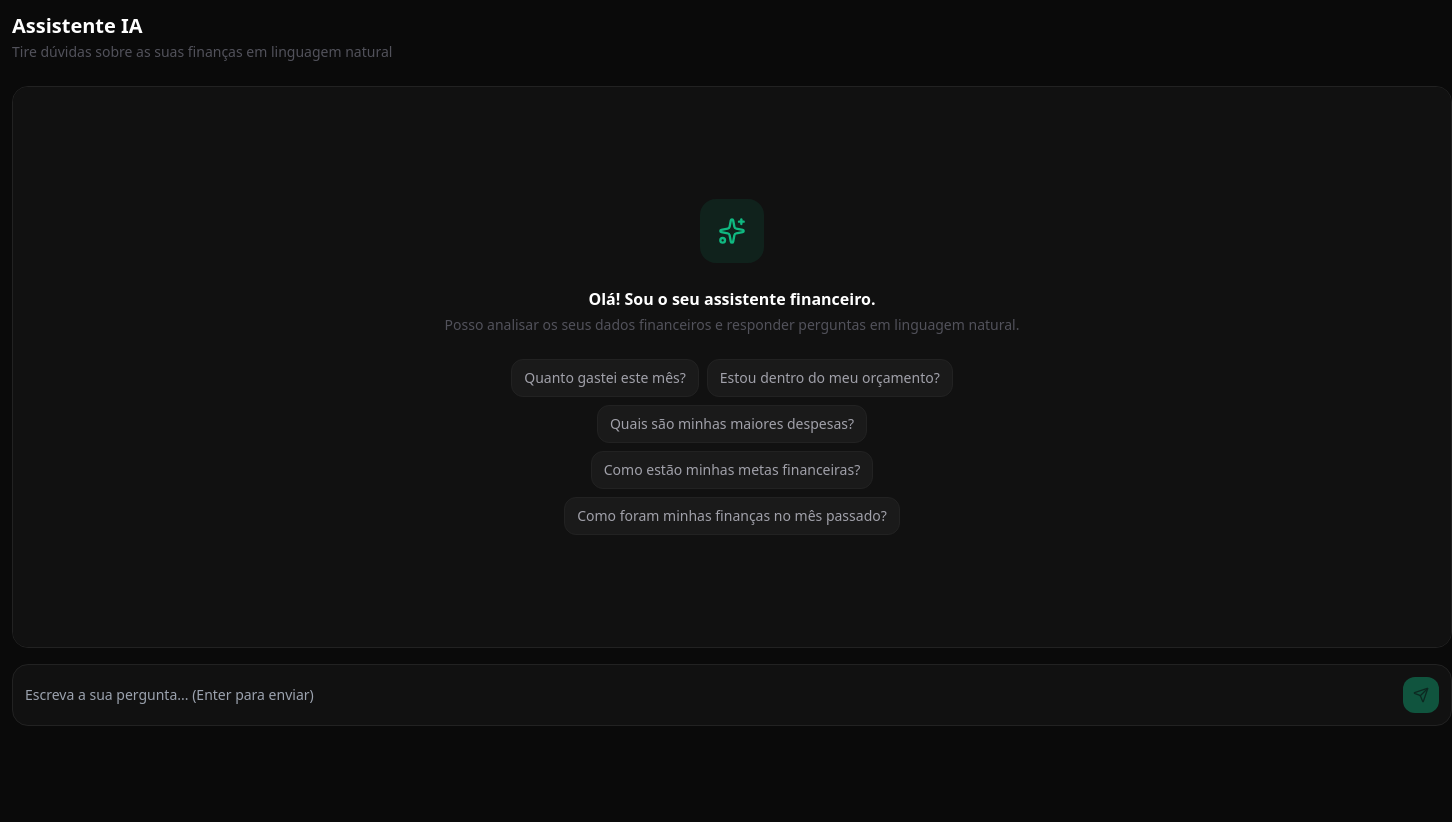
Test: AssistantPage › deve preencher o input ao clicar numa sugestão
What coordinates should you click on to do the following:
click the button "Quanto gastei este mês?"
I would click on:
 (605, 378)
Its box is [511, 359, 699, 397].
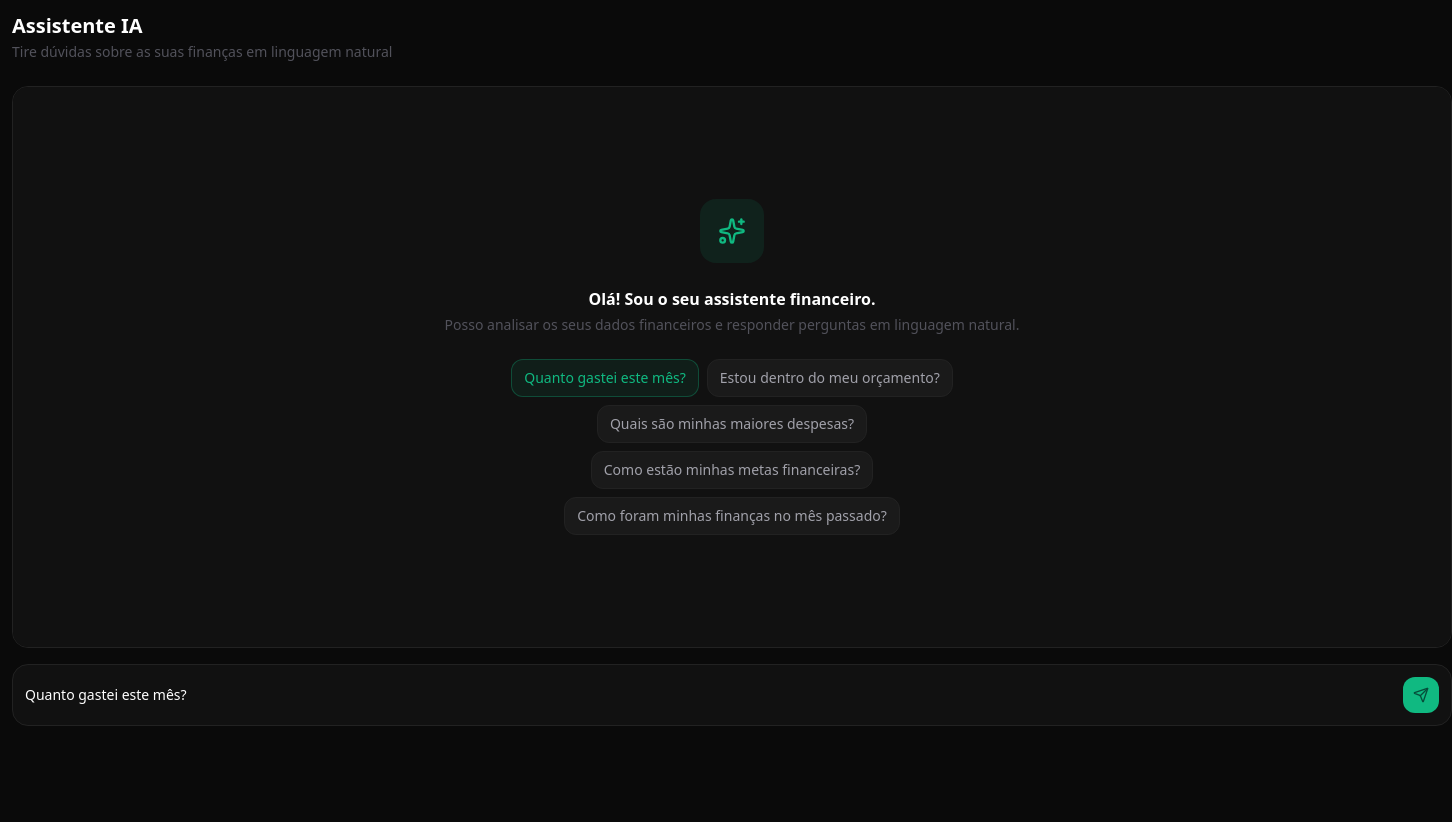
Expected: the text box with placeholder "Escreva a sua pergunta... (Enter para enviar)" holds "Quanto gastei este mês?", [25, 678, 1391, 713]
